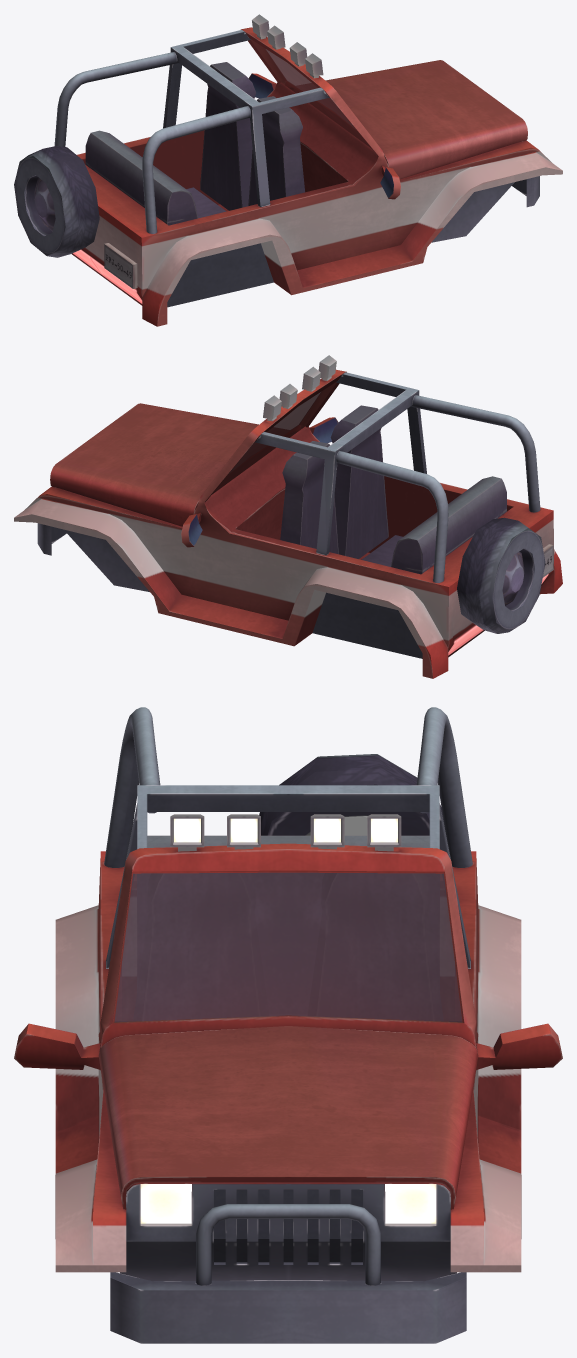
File: car_chassis.glb
3 views of the same model, one above another, from view 1: azimuth 30°, elevation 25°; view 2: azimuth 150°, elevation 25°; view 3: azimuth 270°, elevation 25° (orthographic). The views are drawn at different scales.
Parts seen in each view (by area): view 1: car_body; view 2: car_body; view 3: car_body.
Boxes of the visible parts, box(x1,y1,x2,y2) form: car_body: box(14, 14, 562, 326); car_body: box(14, 355, 562, 678); car_body: box(14, 707, 562, 1343).
Bounding box in the file's own units: 2.79 × 1.19 × 1.62.
Materials: 2 (2 with a texture image).
